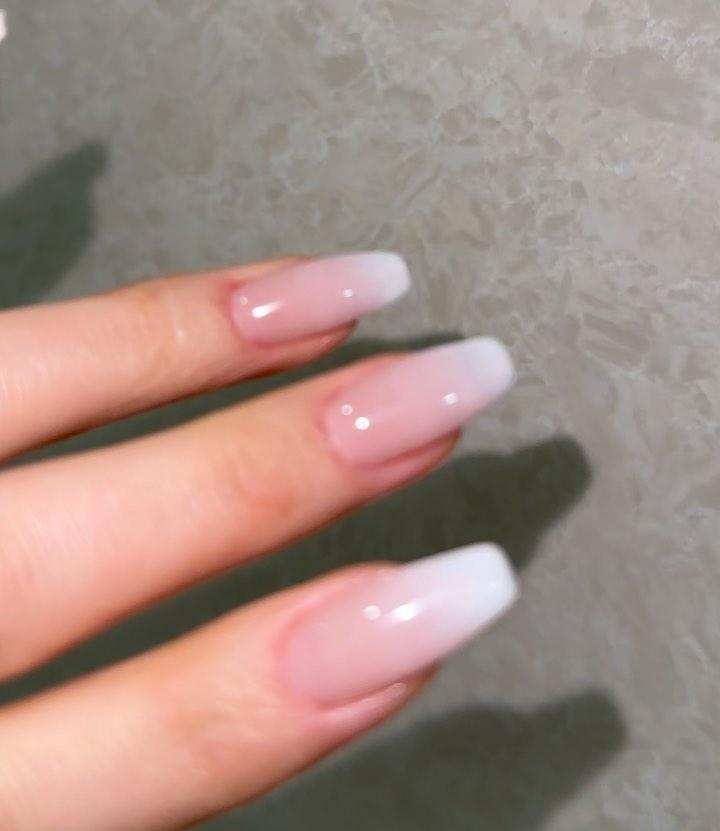nail: (274, 539, 519, 708), (321, 334, 517, 468), (228, 248, 411, 346)
